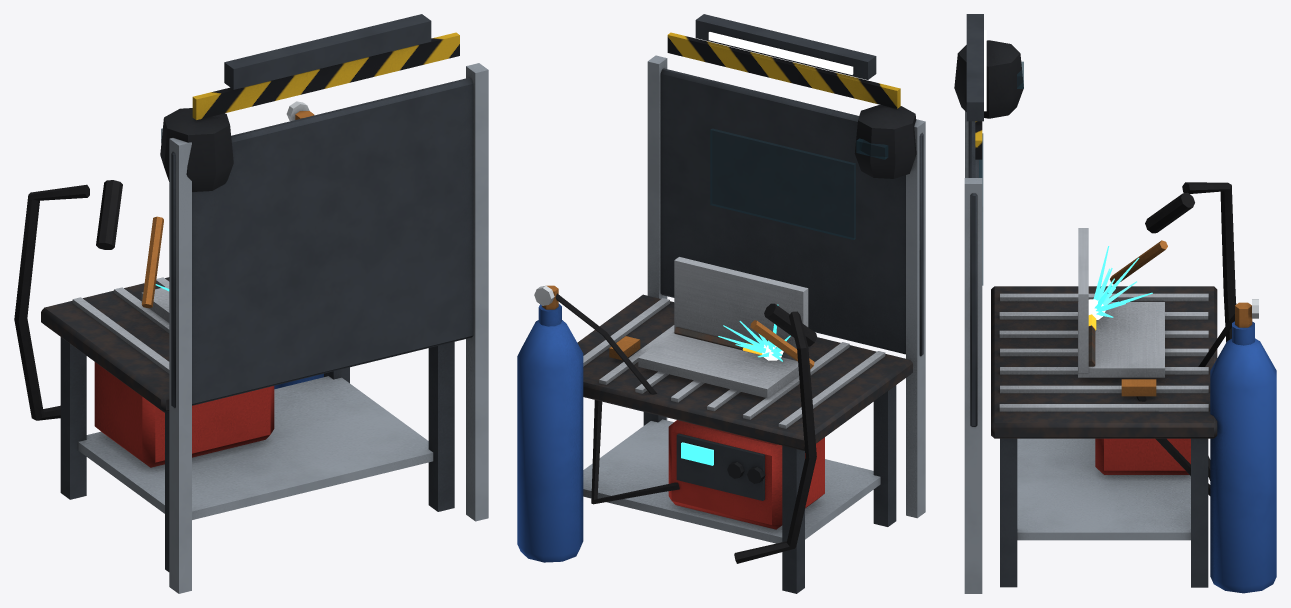
The model's file is soldador_arco.fbx.
The picture shows the model from 3 angles, left to right: view 1: azimuth 30°, elevation 25°; view 2: azimuth 150°, elevation 25°; view 3: azimuth 270°, elevation 25°; orthographic projection. The views are drawn at different scales.
Parts seen in each view (by area): view 1: soldador_arco; view 2: soldador_arco, soldador_arco_cristal, soldador_arco_blanco_luz, soldador_arco_chispas_neon, soldador_arco_pantalla_neon; view 3: soldador_arco, soldador_arco_chispas_neon, soldador_arco_cristal, soldador_arco_blanco_luz.
Part boxes in pixels (x1=…): soldador_arco: x1=14, y1=14, x2=488, y2=593; soldador_arco: x1=517, y1=14, x2=925, y2=593; soldador_arco_cristal: x1=710, y1=128, x2=888, y2=239; soldador_arco_blanco_luz: x1=708, y1=32, x2=853, y2=360; soldador_arco_chispas_neon: x1=718, y1=304, x2=790, y2=361; soldador_arco_pantalla_neon: x1=681, y1=442, x2=713, y2=465; soldador_arco: x1=954, y1=14, x2=1276, y2=593; soldador_arco_chispas_neon: x1=1093, y1=246, x2=1152, y2=317; soldador_arco_cristal: x1=979, y1=61, x2=1023, y2=285; soldador_arco_blanco_luz: x1=984, y1=30, x2=1105, y2=319.
Bounding box in the file's own units: 2 × 2.96 × 1.85.
3 materials, 3 textured.
